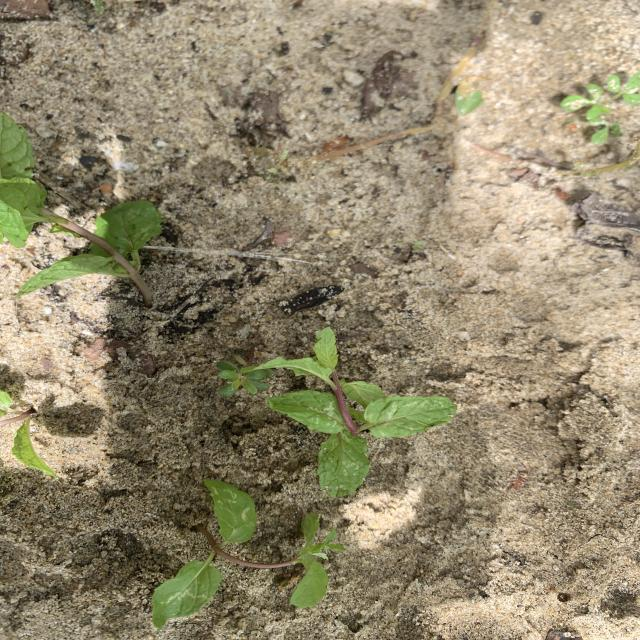crop: (262, 328, 455, 496), (1, 114, 161, 301), (153, 481, 327, 626), (1, 389, 55, 475)
weed: (561, 73, 639, 143), (218, 348, 274, 395)
